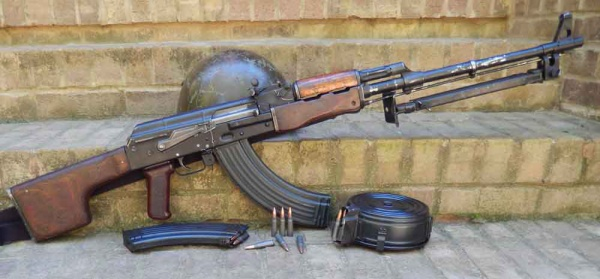ak47: (11, 14, 585, 242)
